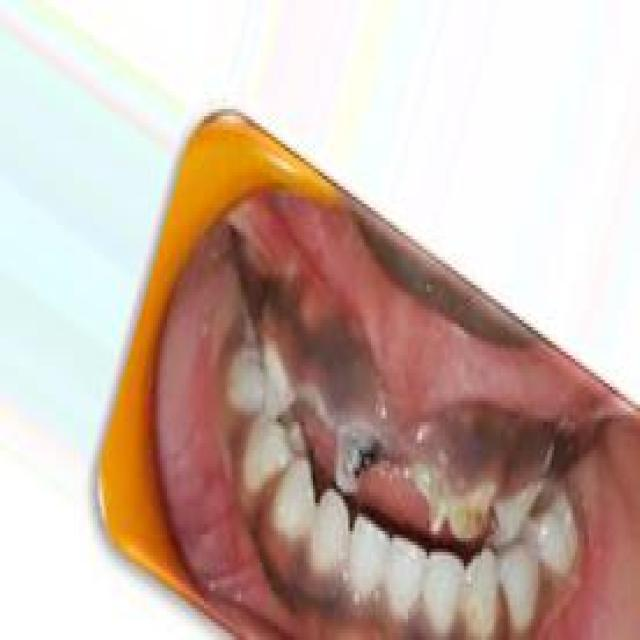caries: (330, 417, 390, 500), (450, 477, 496, 545), (410, 458, 450, 536)
